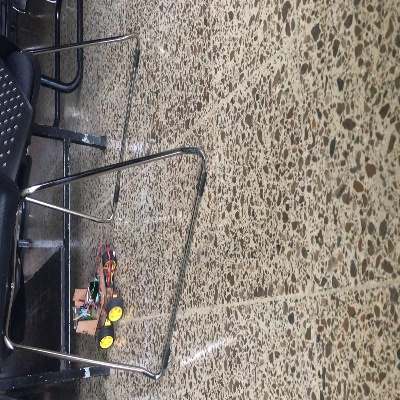Robot: (72, 251, 123, 348)
